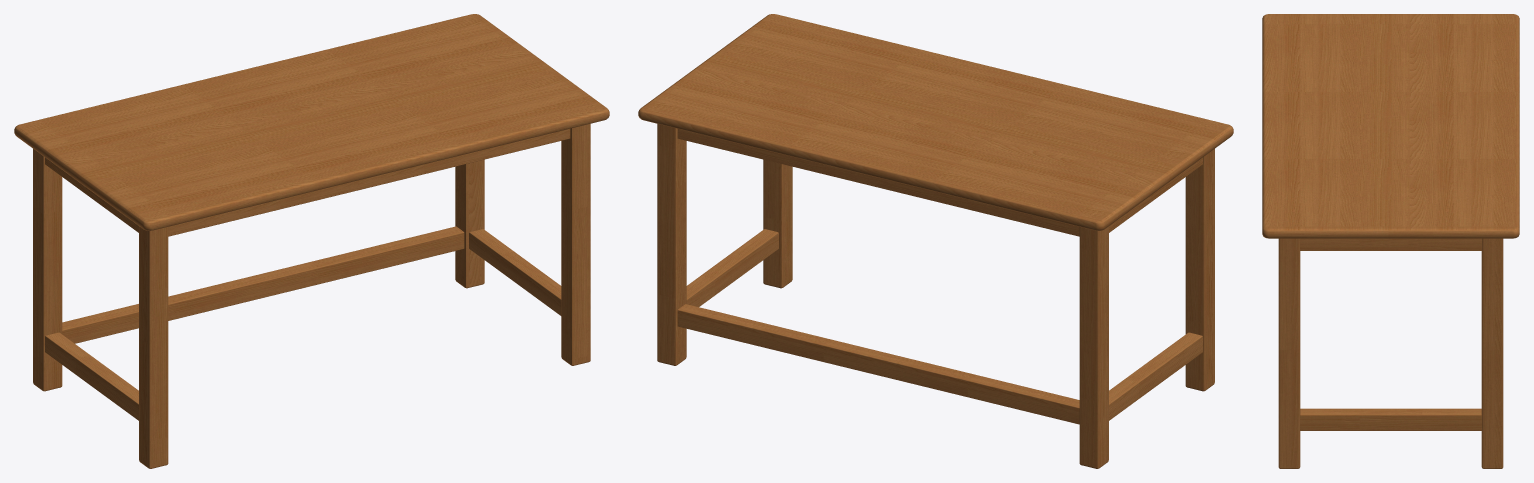
The model's file is OfficeDesk.fbx.
3 views of the same model, side by side, from view 1: azimuth 30°, elevation 25°; view 2: azimuth 150°, elevation 25°; view 3: azimuth 270°, elevation 25° (orthographic). The views are drawn at different scales.
Visible parts, largest first — view 1: cabinet-andy_desk_140; view 2: cabinet-andy_desk_140; view 3: cabinet-andy_desk_140.
Boxes of the visible parts, x1=… form: cabinet-andy_desk_140: x1=14, y1=14, x2=609, y2=468; cabinet-andy_desk_140: x1=638, y1=14, x2=1233, y2=468; cabinet-andy_desk_140: x1=1262, y1=14, x2=1519, y2=468.
Bounding box in the file's own units: 1.6 × 0.84 × 0.8.
1 material, 1 textured.
